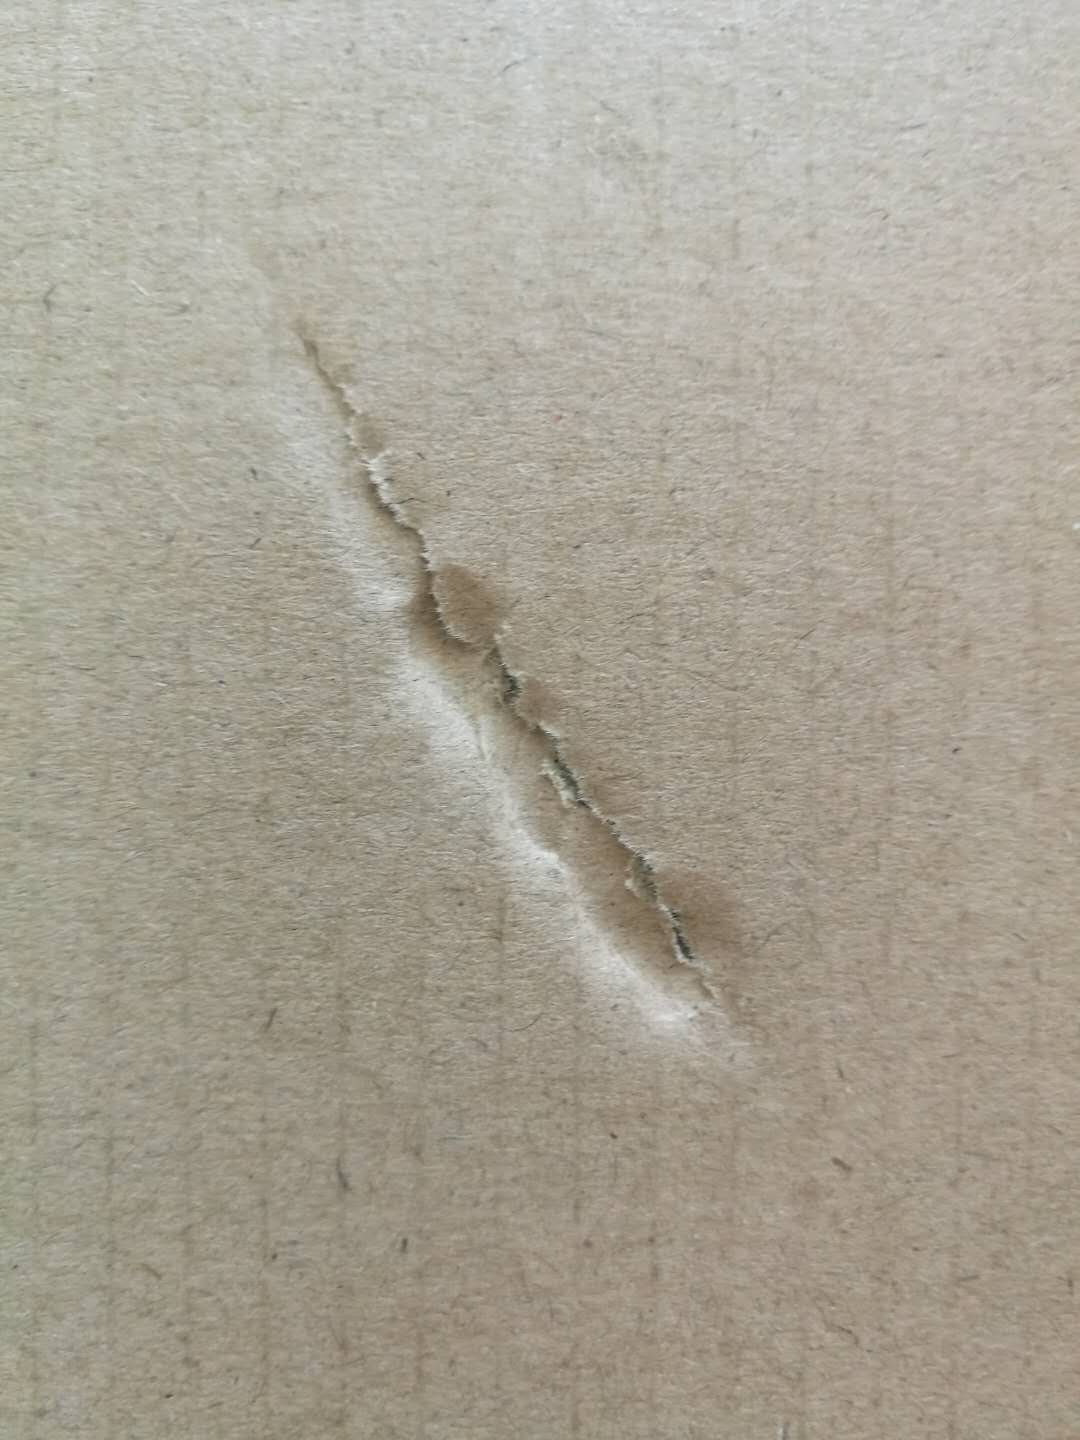defect: (235, 283, 837, 1118)
